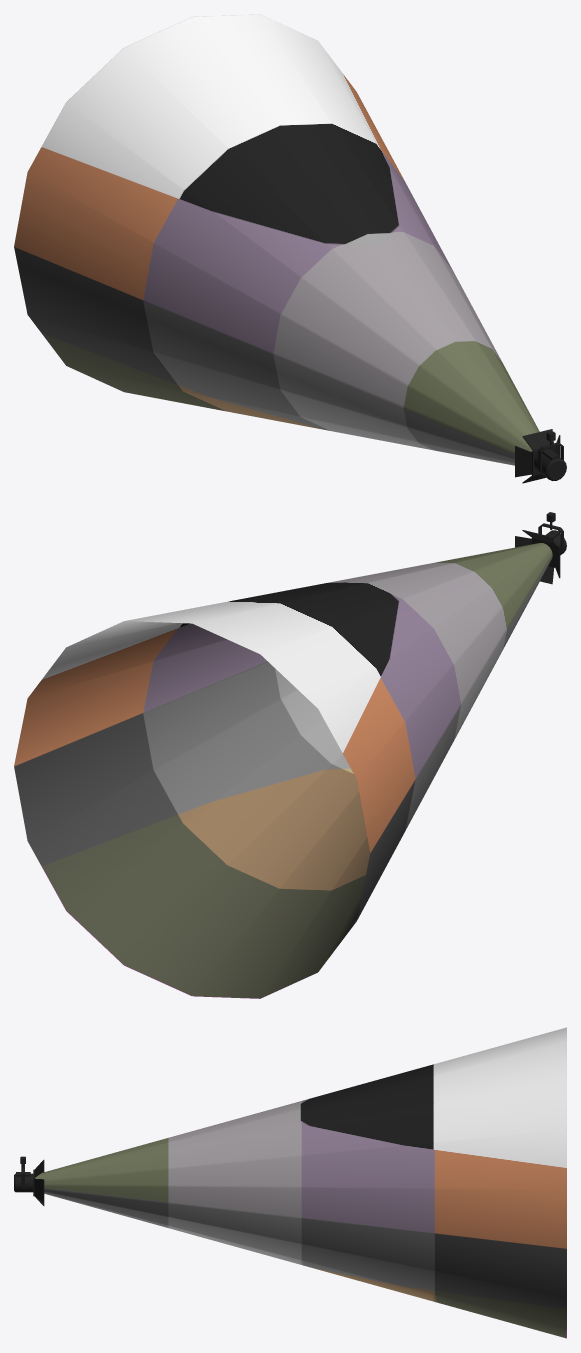
Rendered from CanLight.fbx.
3 renders of one model, top to bottom at view 1: azimuth 30°, elevation 25°; view 2: azimuth 150°, elevation 25°; view 3: azimuth 270°, elevation 25°, orthographic. The views are drawn at different scales.
Visible parts, largest first — view 1: lightCone, can; view 2: lightCone, can; view 3: lightCone, can.
Part boxes in pixels (box(x1,y1,x2,y2)): lightCone: box(14, 14, 539, 465); can: box(515, 429, 566, 483); lightCone: box(14, 543, 552, 998); can: box(515, 530, 566, 584); lightCone: box(35, 1027, 566, 1338); can: box(14, 1160, 44, 1205).
Bounding box in the file's own units: 844 × 844 × 1498.
1 material, 1 textured.
